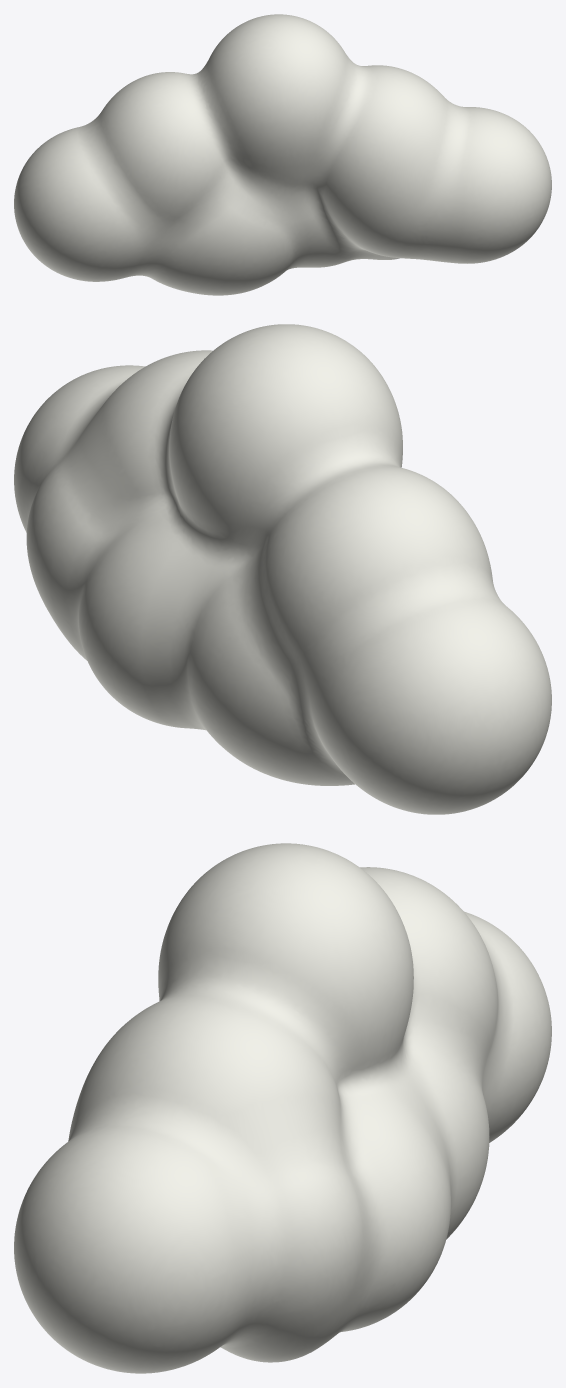
Rendered from cloud.glb.
The picture shows the model from 3 angles, top to bottom: view 1: azimuth 30°, elevation 25°; view 2: azimuth 150°, elevation 25°; view 3: azimuth 270°, elevation 25°; orthographic projection. The views are drawn at different scales.
Parts seen in each view (by area): view 1: cloud; view 2: cloud; view 3: cloud.
Part boxes in pixels (left/top/right/bottom): cloud: left=14, top=14, right=551, bottom=295; cloud: left=14, top=324, right=551, bottom=814; cloud: left=14, top=843, right=551, bottom=1373.
Bounding box in the file's own units: 242 × 146 × 161.
Materials: 1 (1 with a texture image).
